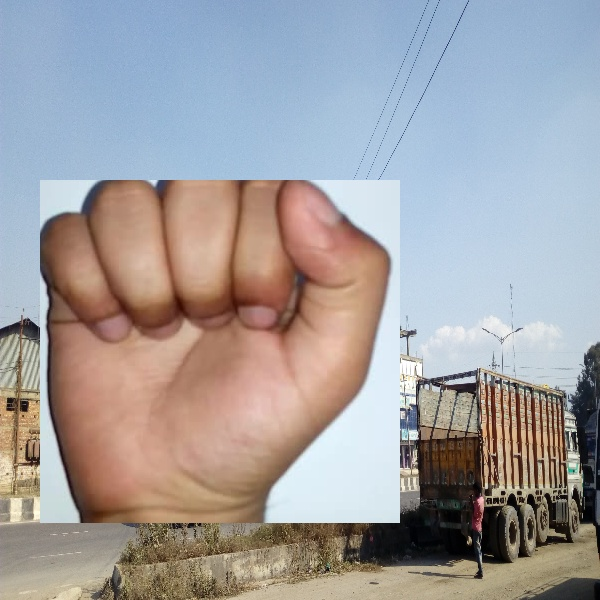A: (40, 180, 400, 523)
